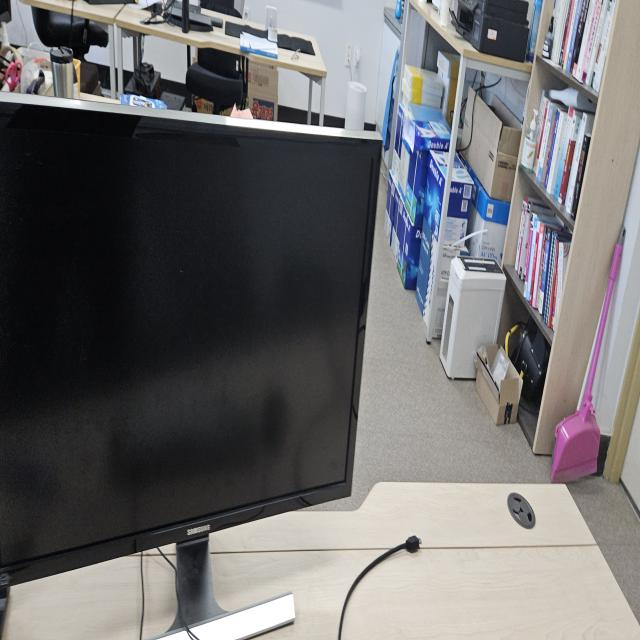Monitor: (1, 88, 384, 632)
